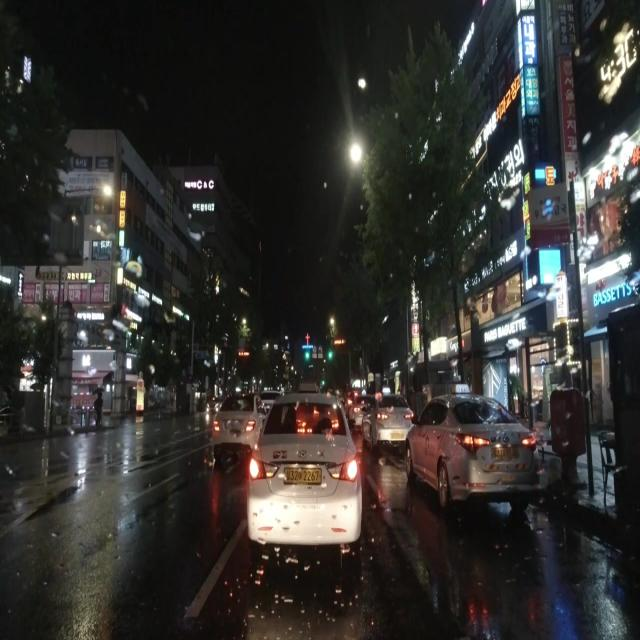Car: (246, 394, 361, 550), (403, 389, 539, 516), (364, 394, 407, 445), (216, 395, 255, 443)
